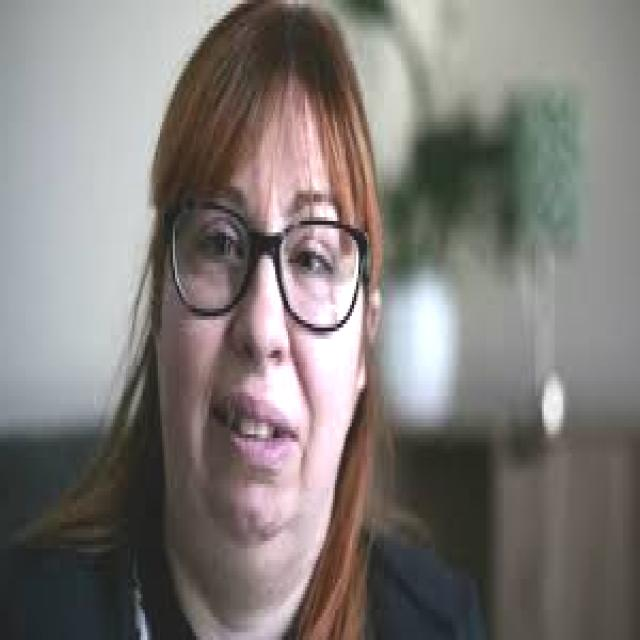normal_face: (142, 0, 362, 573)
